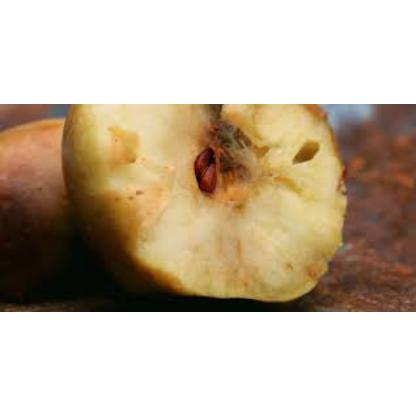damaged_apple: (61, 104, 351, 296)
